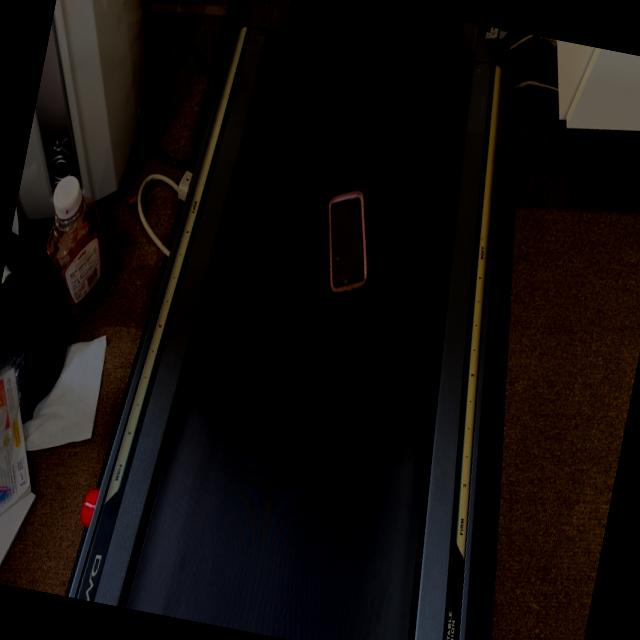Trash: (311, 183, 386, 293)
